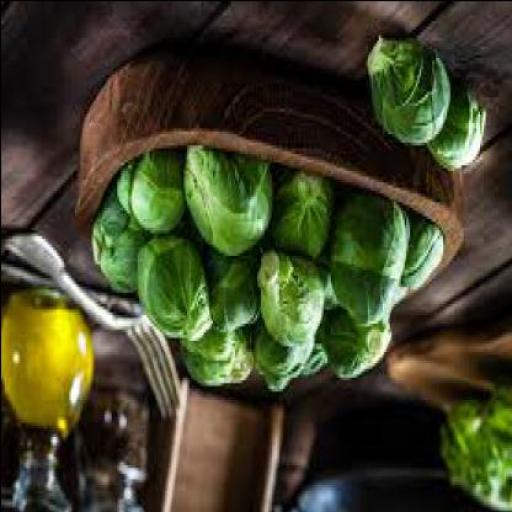biodegradable: (330, 190, 411, 328), (182, 150, 275, 260), (364, 37, 453, 150), (439, 382, 511, 510), (138, 237, 214, 345), (258, 252, 332, 351), (116, 150, 188, 238), (272, 170, 336, 260), (94, 198, 148, 300), (431, 82, 486, 173), (321, 311, 392, 379), (180, 329, 257, 390), (252, 326, 319, 393), (205, 252, 261, 330), (403, 217, 444, 289), (298, 325, 336, 379)
glass: (1, 290, 97, 511), (73, 394, 150, 512)
metal: (6, 235, 182, 425), (2, 268, 142, 320)
